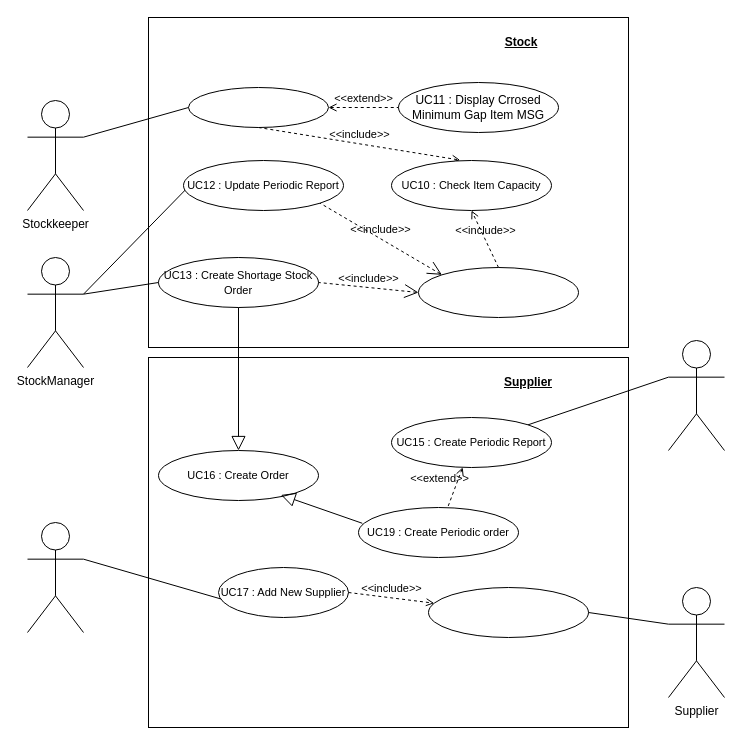
This 754x745 diagram has some shape labels left out. Here are the shapes that lost their labels. From the top down, the centre of each, then its label:
the point at 258,107: UC9 : Update Stock Items
the point at 498,292: UC14 : Create Required Stock Report
the point at 696,395: Order Manager
the point at 55,577: Admin
the point at 508,612: UC18 : Insert Supplier Details
